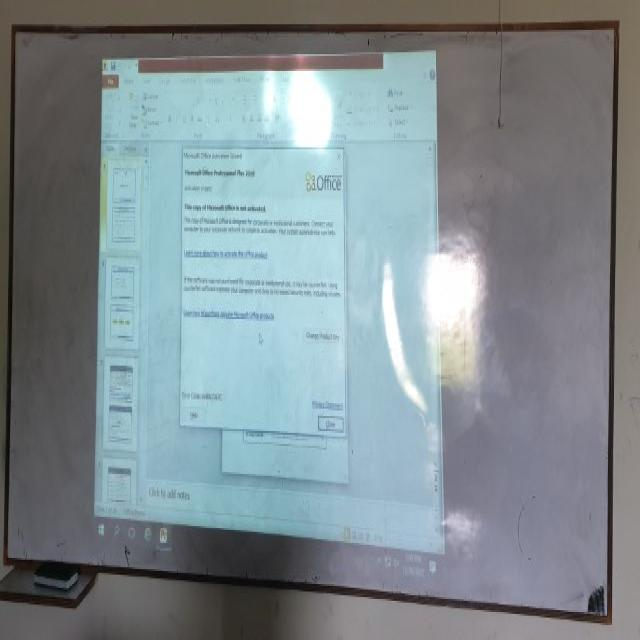Slide: (94, 46, 447, 581)
White-board: (5, 23, 617, 625)
